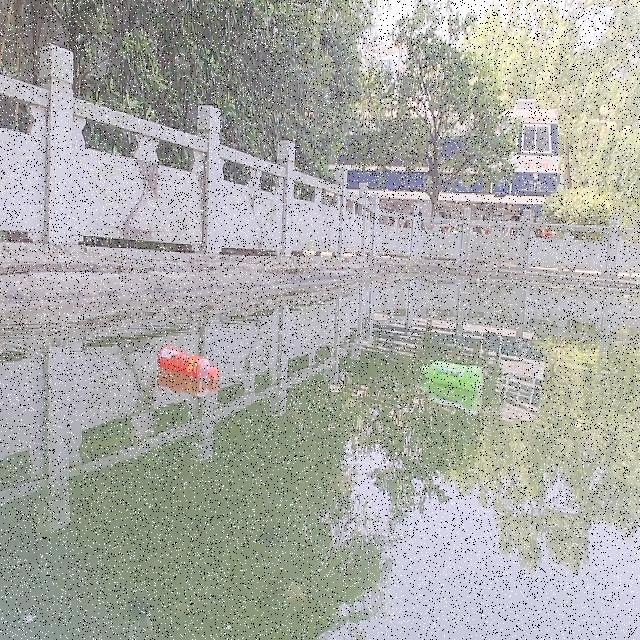bottle: (156, 343, 220, 381), (419, 358, 481, 390)
